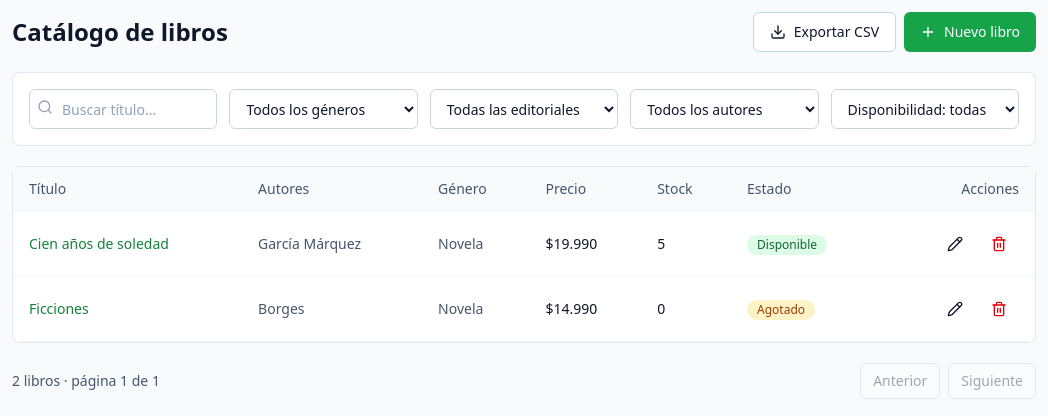
Test: BooksListPage › filtra por búsqueda con debounce
The image size is (1048, 416).
Check: the link "Cien años de soledad" is shown, box x1=29 y1=234 x2=169 y2=253
Type "Ficciones" into the field named "Buscar por título" at coordinates (123, 109), box x1=29 y1=89 x2=217 y2=129
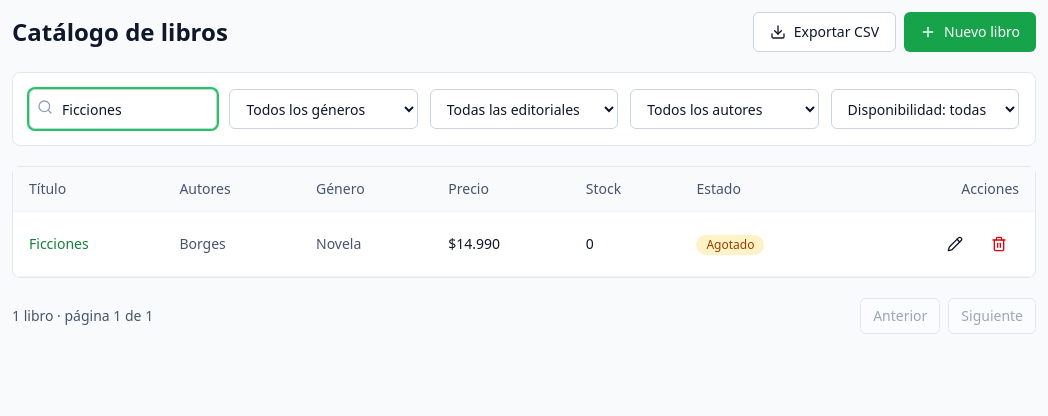
Check: the link "Ficciones" is shown, box x1=29 y1=234 x2=89 y2=253
Check: the link "Cien años de soledad" is gone
